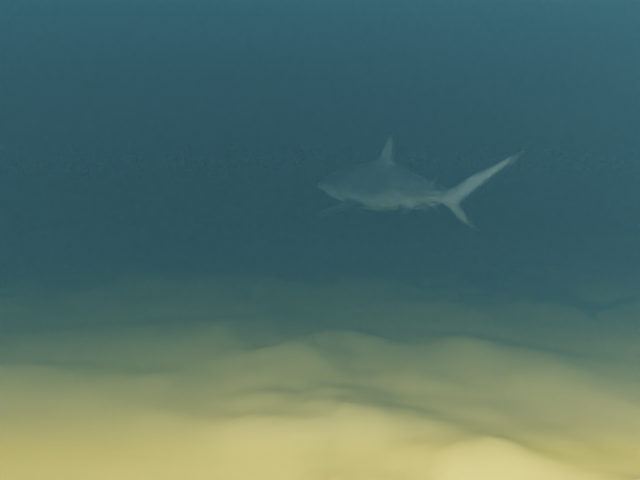Carribean Shark.001: (314, 132, 525, 231)
